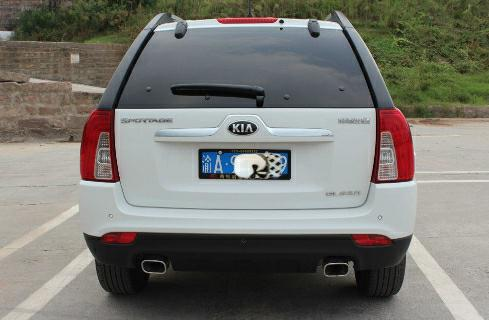起亚-佳乐: (72, 9, 425, 305)
